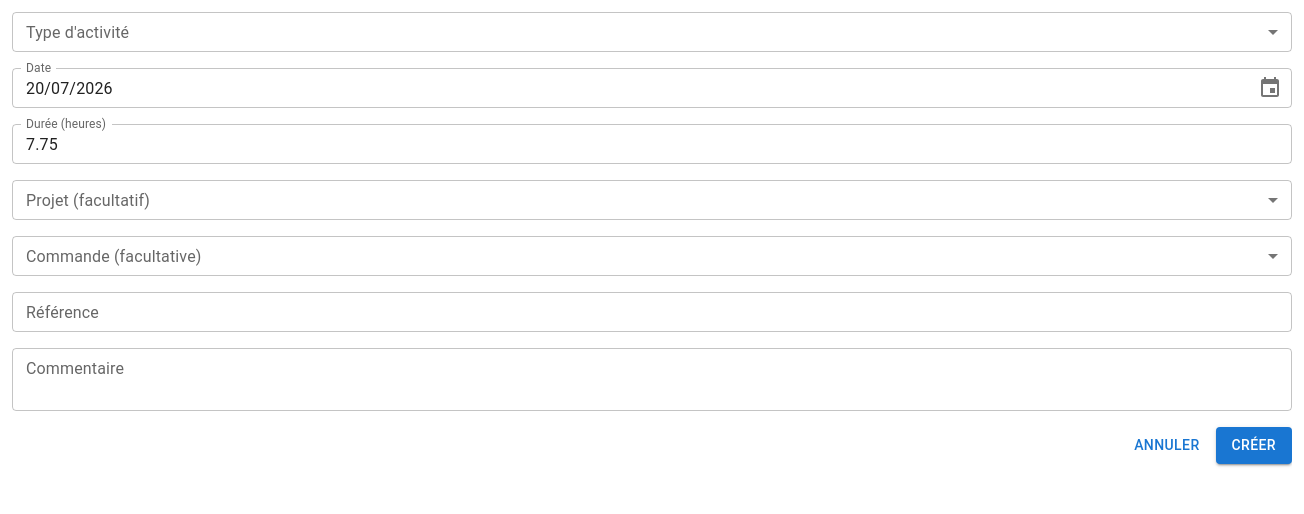
Test case: TimeEntryCreateForm › blocks submission client-side when the reference is missing for a type that requires one
Click the dropdown named "Type d'activité" next to "Type d'activité". click: coordinates (652, 32)
box: 12,12 -> 1292,52
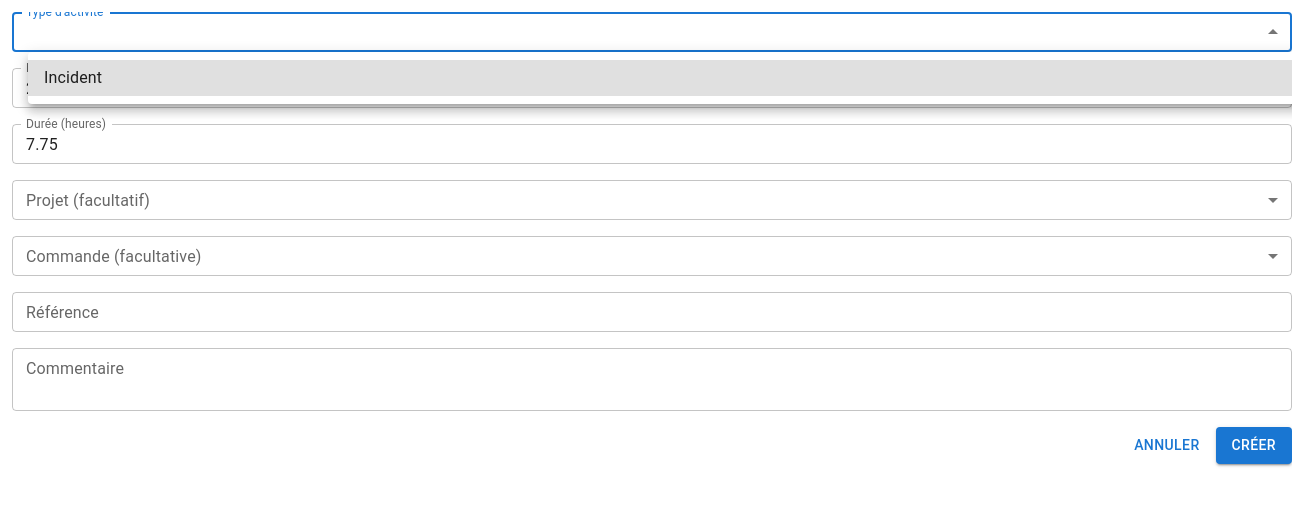
Click the option "Incident". click: coordinates (73, 78)
box: 28,60 -> 1292,96
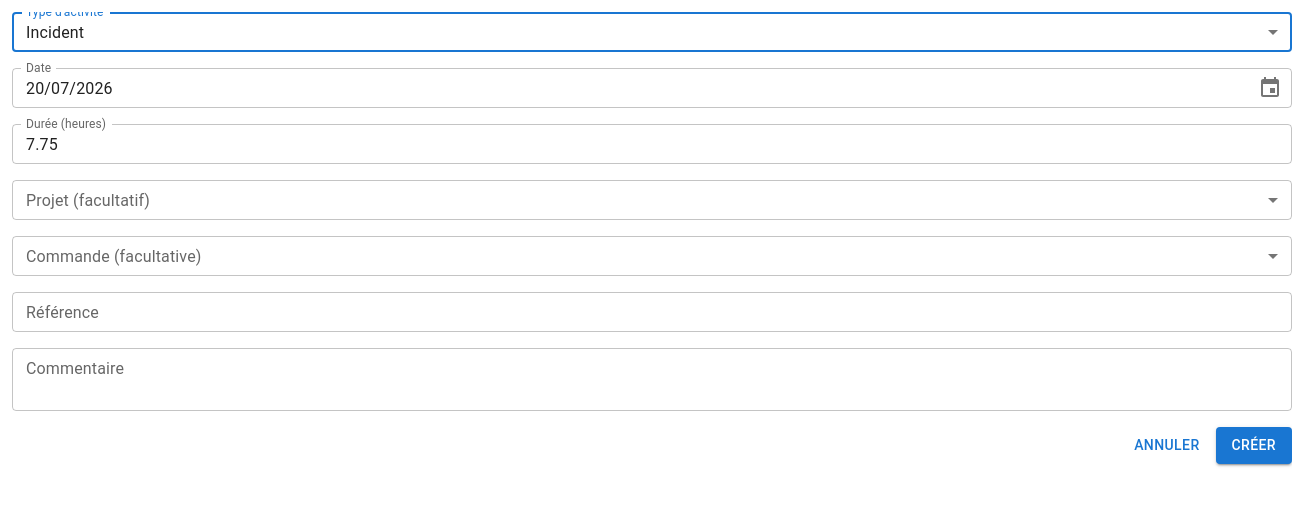
Click the button "Créer". click: coordinates (1254, 445)
box: 1216,427 -> 1292,464
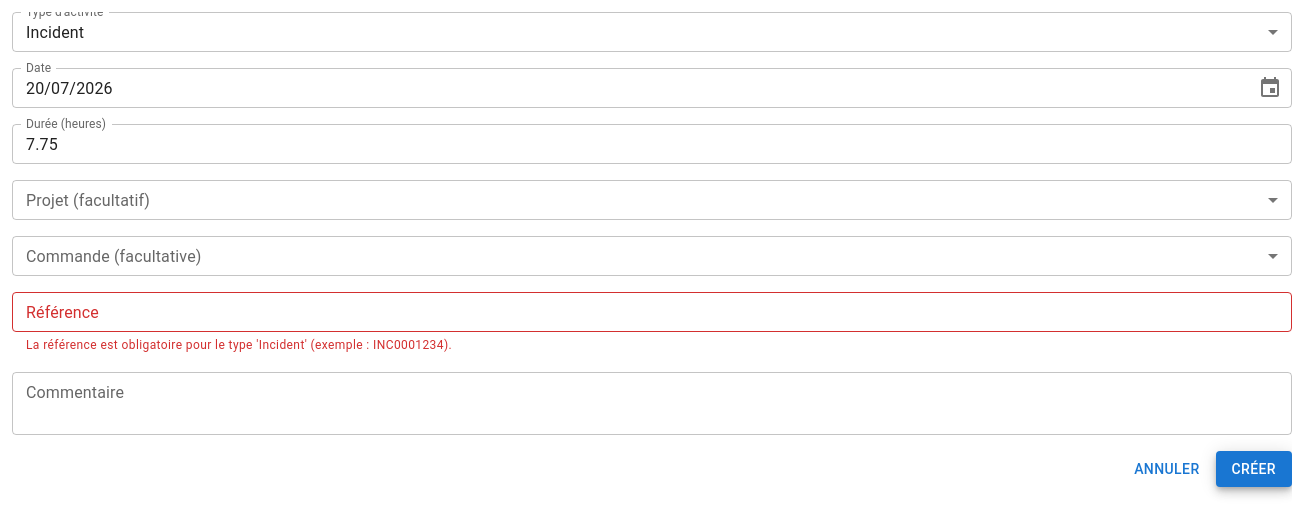
Check: the text "référence est obligatoire" is shown, box 26,338 -> 452,352
